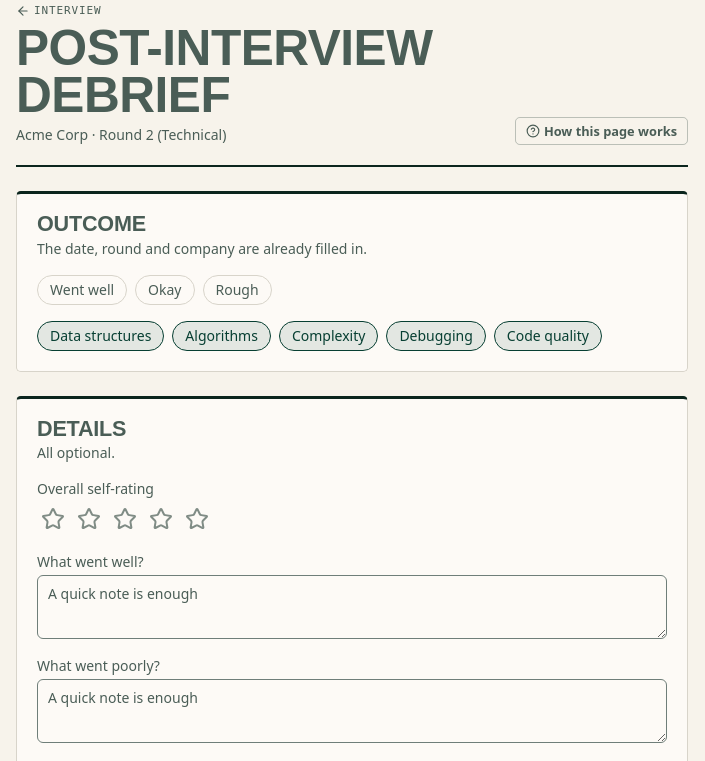
Scenario: InterviewDebriefPage › completing it in one pass rates, writes one note, and submits
This screenshot has width=705, height=761.
Expected: the heading "Post-interview debrief" is shown, [16,25,499,120]
Click the radio button named "4 out of 5": (161, 520) [145,504,177,536]
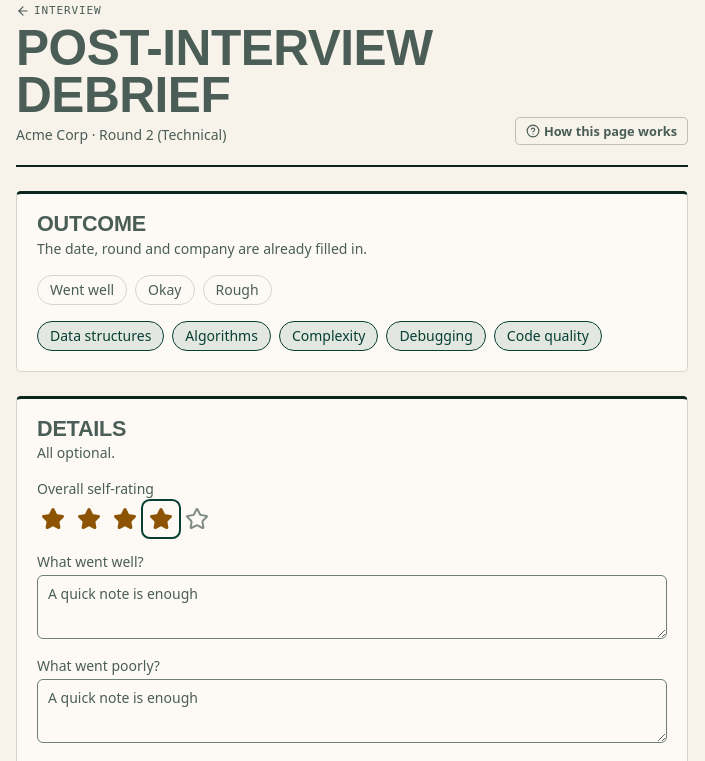
In the text box labelled "What went well?": (352, 608) [37,576,667,640], type "Explained my approach clearly"
(page scrolled)
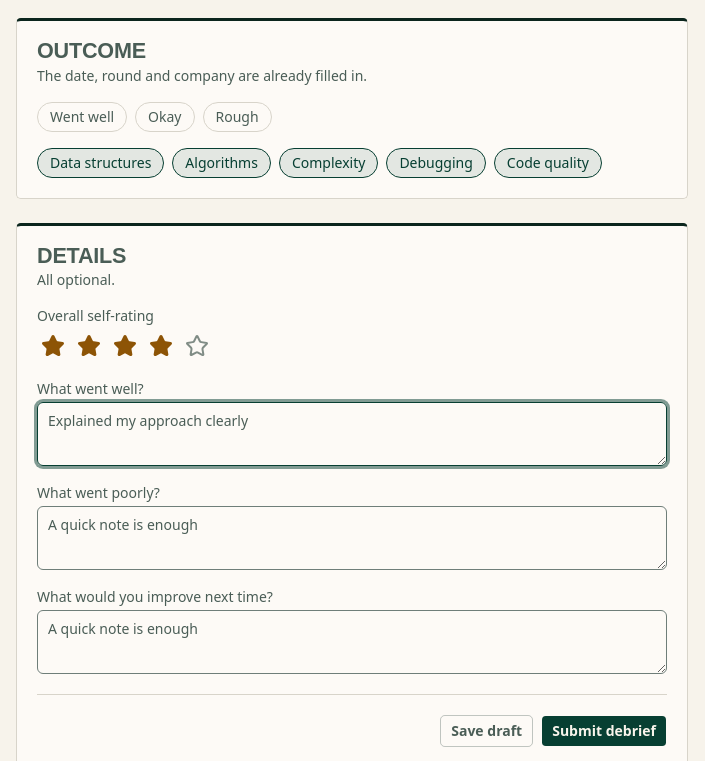
Click the button "Submit debrief": (604, 732) [541,716,667,748]
(page scrolled)
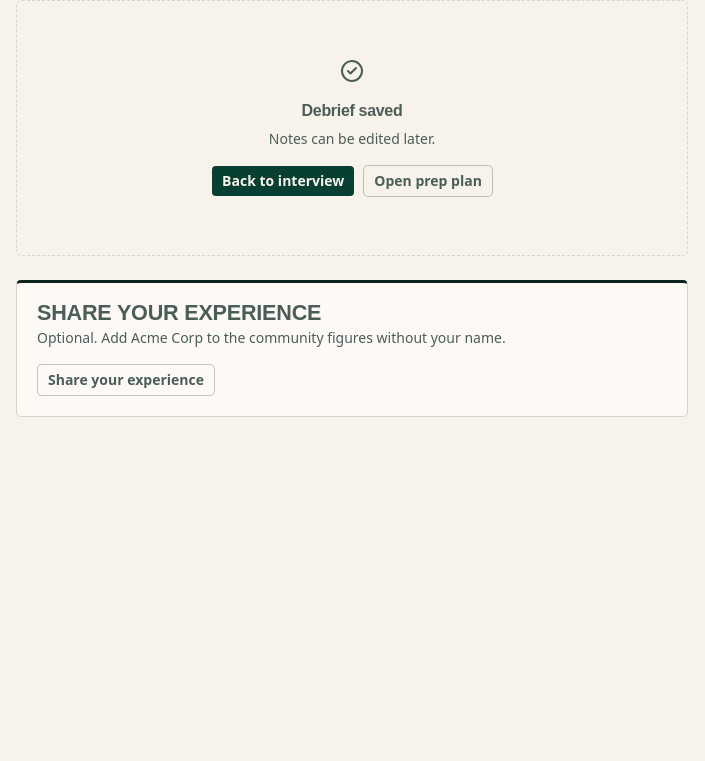
Expected: the heading "Debrief saved" is shown, [302,102,402,119]
